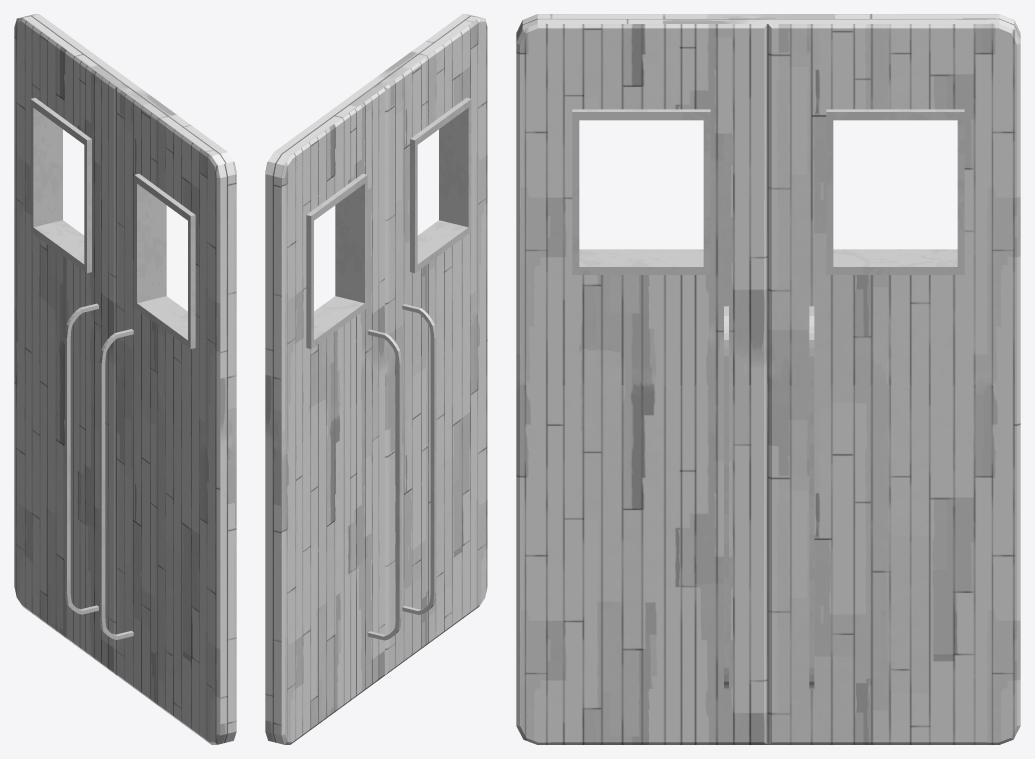
Rendered from Train Coach Door_A_001.fbx.
3 renders of one model, left to right at view 1: azimuth 30°, elevation 25°; view 2: azimuth 150°, elevation 25°; view 3: azimuth 270°, elevation 25°, orthographic. The views are drawn at different scales.
Visible parts, largest first — view 1: Train_Coach_Door_A_001; view 2: Train_Coach_Door_A_001; view 3: Train_Coach_Door_A_001.
Boxes of the visible parts, x1,y1,x2,y2 form: Train_Coach_Door_A_001: [14, 14, 236, 744]; Train_Coach_Door_A_001: [265, 14, 487, 744]; Train_Coach_Door_A_001: [516, 14, 1020, 744].
Size of the model in its own units: 25.05 by 170 by 108.
Materials: 3 (3 with a texture image).
